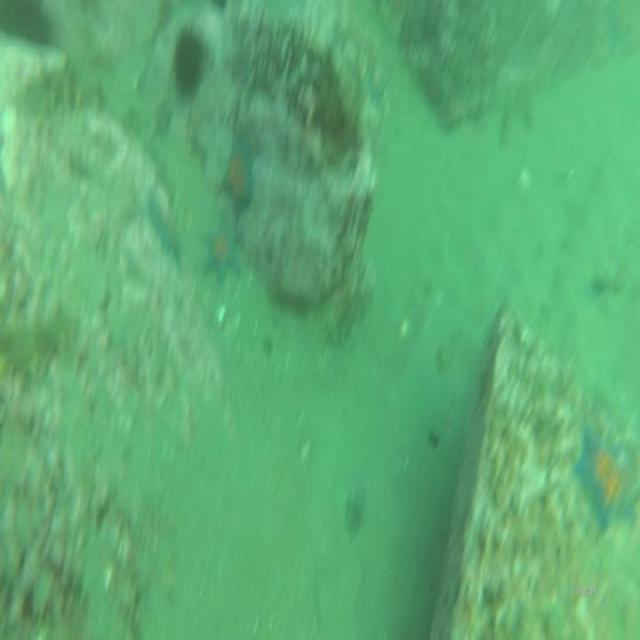echinus: (169, 22, 211, 101)
holothurian: (2, 310, 80, 392), (38, 49, 108, 120)
starfish: (574, 423, 640, 538), (146, 194, 185, 269), (201, 225, 243, 292), (221, 141, 256, 215)
